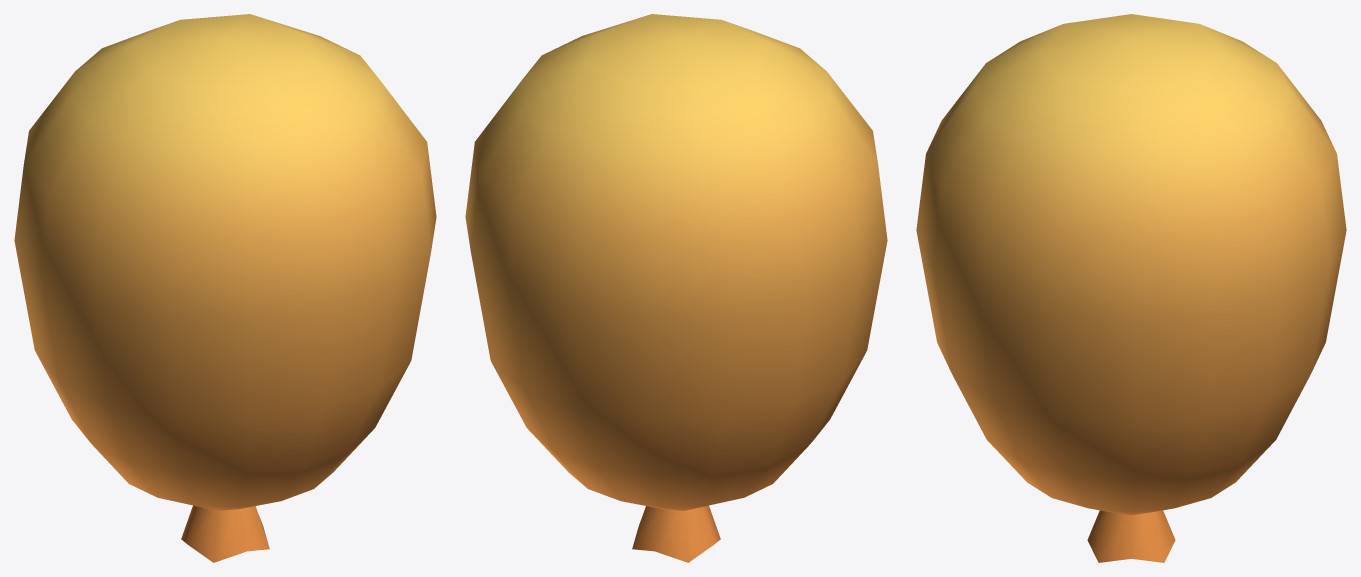
File: balloon_yellow.obj
3 views of the same model, side by side, from view 1: azimuth 30°, elevation 25°; view 2: azimuth 150°, elevation 25°; view 3: azimuth 270°, elevation 25° (orthographic).
Parts seen in each view (by area): view 1: balloon_yellow; view 2: balloon_yellow; view 3: balloon_yellow.
Boxes of the visible parts, left/top/right/bottom form: balloon_yellow: left=14, top=14, right=436, bottom=562; balloon_yellow: left=465, top=14, right=887, bottom=562; balloon_yellow: left=916, top=14, right=1346, bottom=562.
Bounding box in the file's own units: 0.7657 × 1 × 0.7657.
Materials: 1 (1 with a texture image).
